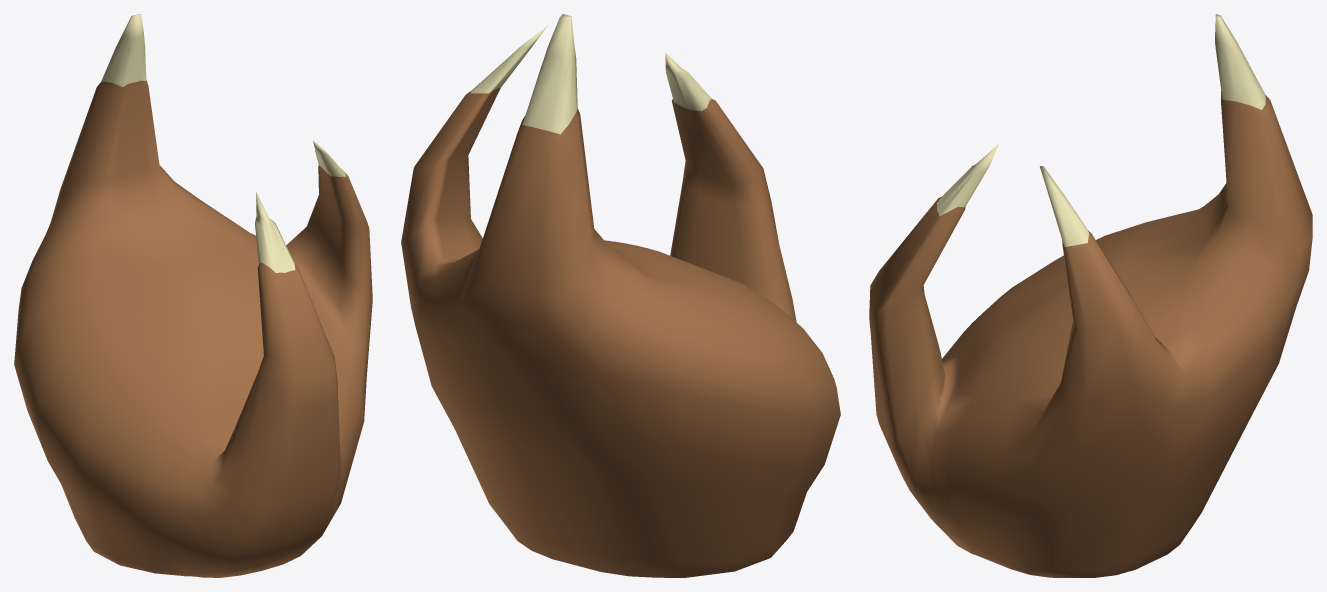
Rendered from Claw Hand.fbx.
3 renders of one model, left to right at view 1: azimuth 30°, elevation 25°; view 2: azimuth 150°, elevation 25°; view 3: azimuth 270°, elevation 25°, orthographic. The views are drawn at different scales.
Visible parts, largest first — view 1: Claw Hand - imohamed7 (MAVG); view 2: Claw Hand - imohamed7 (MAVG); view 3: Claw Hand - imohamed7 (MAVG).
Part boxes in pixels (x1=…): Claw Hand - imohamed7 (MAVG): x1=14, y1=14, x2=372, y2=577; Claw Hand - imohamed7 (MAVG): x1=401, y1=14, x2=840, y2=577; Claw Hand - imohamed7 (MAVG): x1=869, y1=14, x2=1312, y2=577.
Size of the model in its own units: 47.58 by 65.79 by 51.89.
